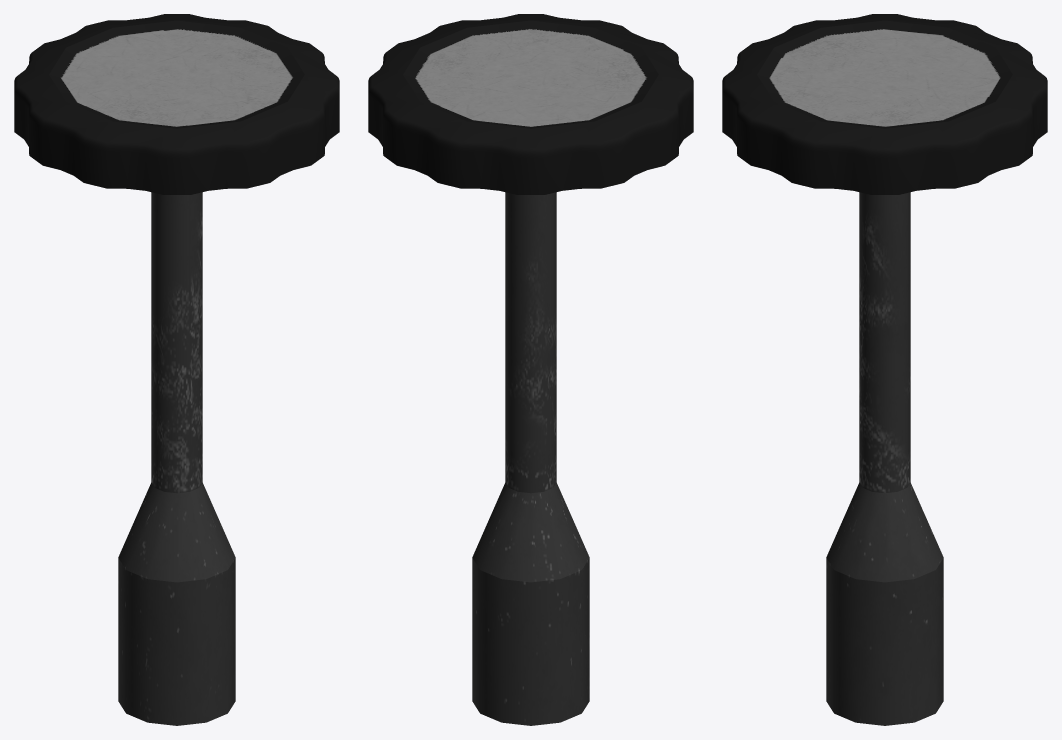
Rendered from AC313 jiaota2_zhongjian.FBX.
The picture shows the model from 3 angles, left to right: view 1: azimuth 30°, elevation 25°; view 2: azimuth 150°, elevation 25°; view 3: azimuth 270°, elevation 25°; orthographic projection.
Parts seen in each view (by area): view 1: AC313_jiaota_02; view 2: AC313_jiaota_02; view 3: AC313_jiaota_02.
Part boxes in pixels (bbox=[...]): AC313_jiaota_02: bbox=[14, 14, 339, 725]; AC313_jiaota_02: bbox=[368, 14, 693, 725]; AC313_jiaota_02: bbox=[722, 14, 1047, 725].
Size of the model in its own units: 0.0832 by 0.0832 by 0.1767.
